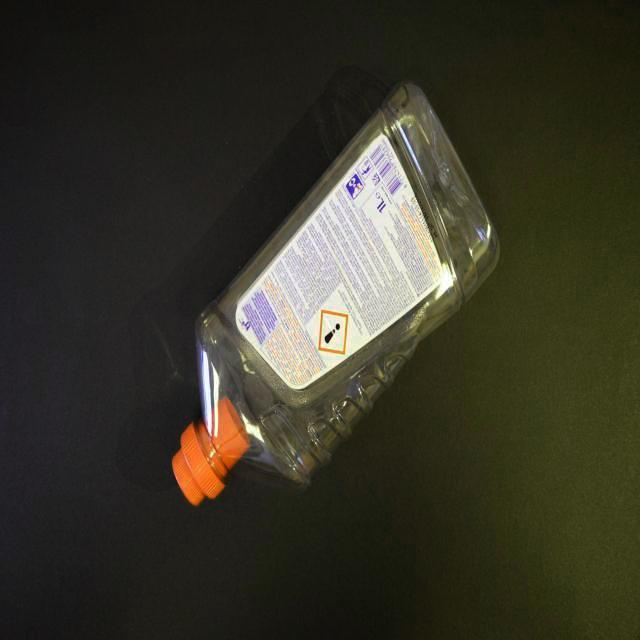bottle: (172, 82, 500, 506)
